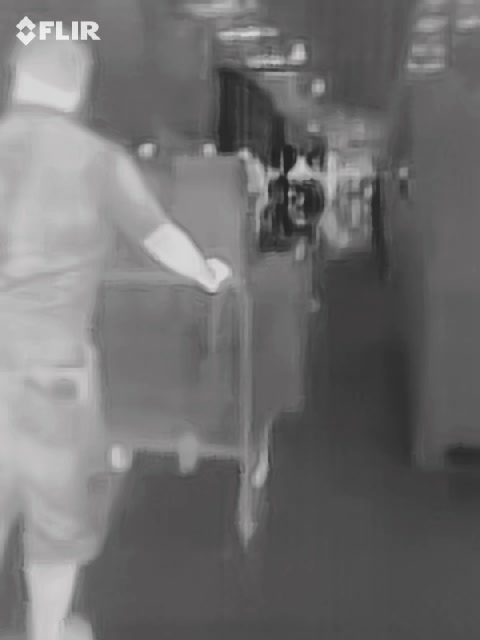head: (7, 28, 92, 115)
